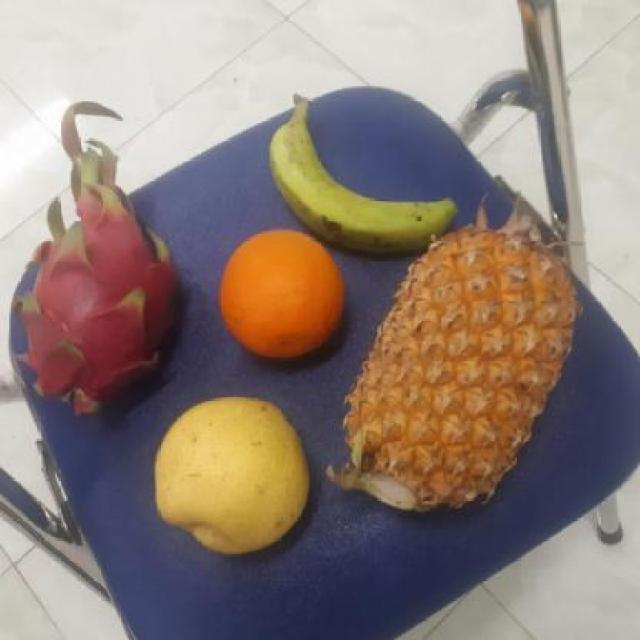banana: (271, 103, 465, 252)
dragon fruit: (14, 199, 185, 426)
oren: (213, 229, 353, 363)
pear: (146, 399, 319, 561)
pineapple: (337, 232, 586, 508)
